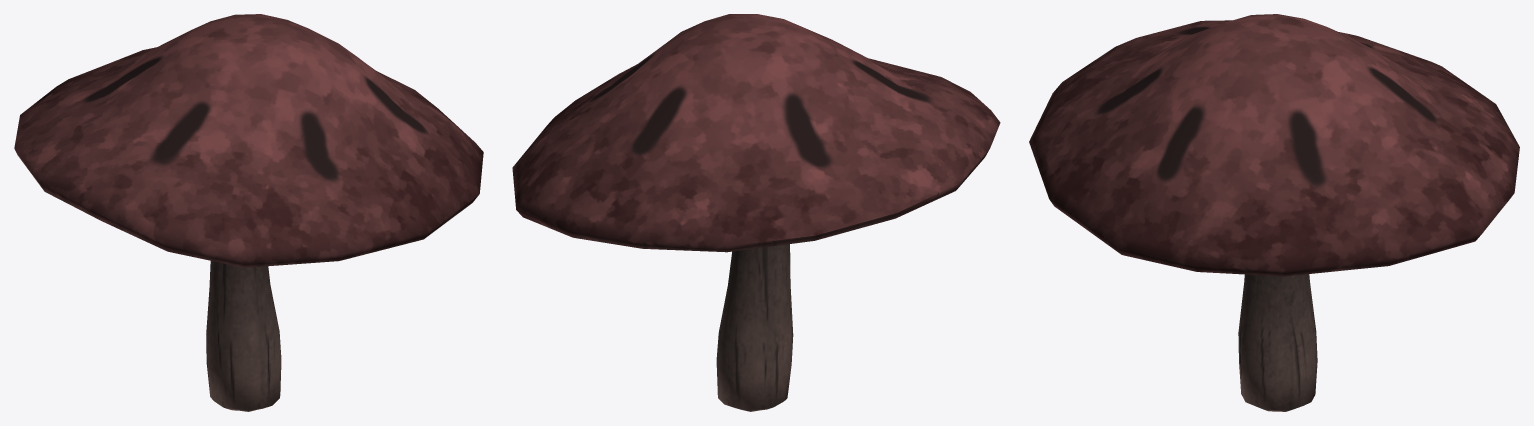
The model's file is Mushroom_Lava_v1.2_Guilty.glb.
The picture shows the model from 3 angles, left to right: view 1: azimuth 30°, elevation 25°; view 2: azimuth 150°, elevation 25°; view 3: azimuth 270°, elevation 25°; orthographic projection.
Visible parts, largest first — view 1: Cylinder; view 2: Cylinder; view 3: Cylinder.
Boxes of the visible parts, x1,y1,x2,y2 form: Cylinder: [14, 14, 483, 411]; Cylinder: [512, 14, 1000, 411]; Cylinder: [1029, 14, 1519, 411].
Size of the model in its own units: 5.36 by 4.66 by 5.48.
1 material, 1 textured.
